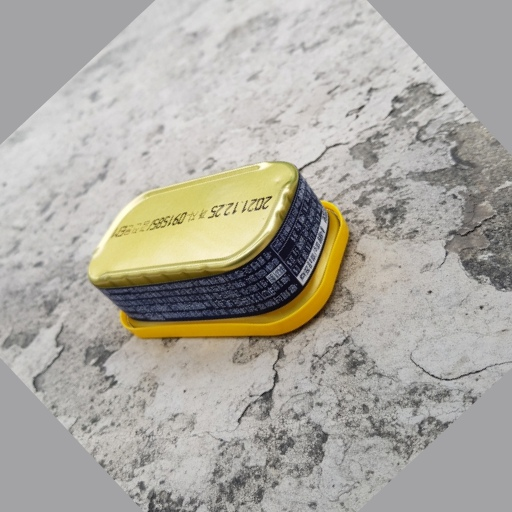Metal_2: (90, 158, 354, 338)
